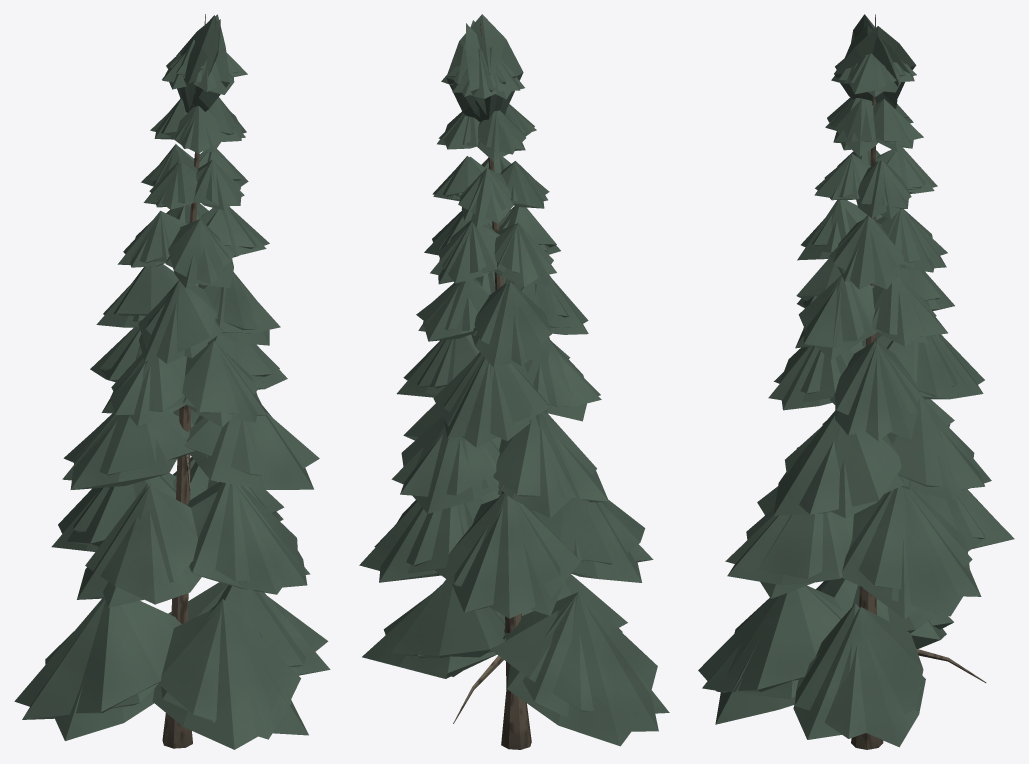
File: forest_spruce_tree_C.glb
The picture shows the model from 3 angles, left to right: view 1: azimuth 30°, elevation 25°; view 2: azimuth 150°, elevation 25°; view 3: azimuth 270°, elevation 25°; orthographic projection. The views are drawn at different scales.
Parts seen in each view (by area): view 1: Foliage, Bark; view 2: Foliage, Bark; view 3: Foliage, Bark.
Part boxes in pixels (bbox=[...]): Foliage: bbox=[14, 14, 330, 749]; Bark: bbox=[162, 14, 205, 748]; Foliage: bbox=[359, 14, 669, 746]; Bark: bbox=[453, 21, 531, 749]; Foliage: bbox=[698, 14, 1014, 747]; Bark: bbox=[796, 14, 986, 749].
Size of what is drawn, in the model's own units: 5.5 by 13 by 5.
Materials: 1 (1 with a texture image).
